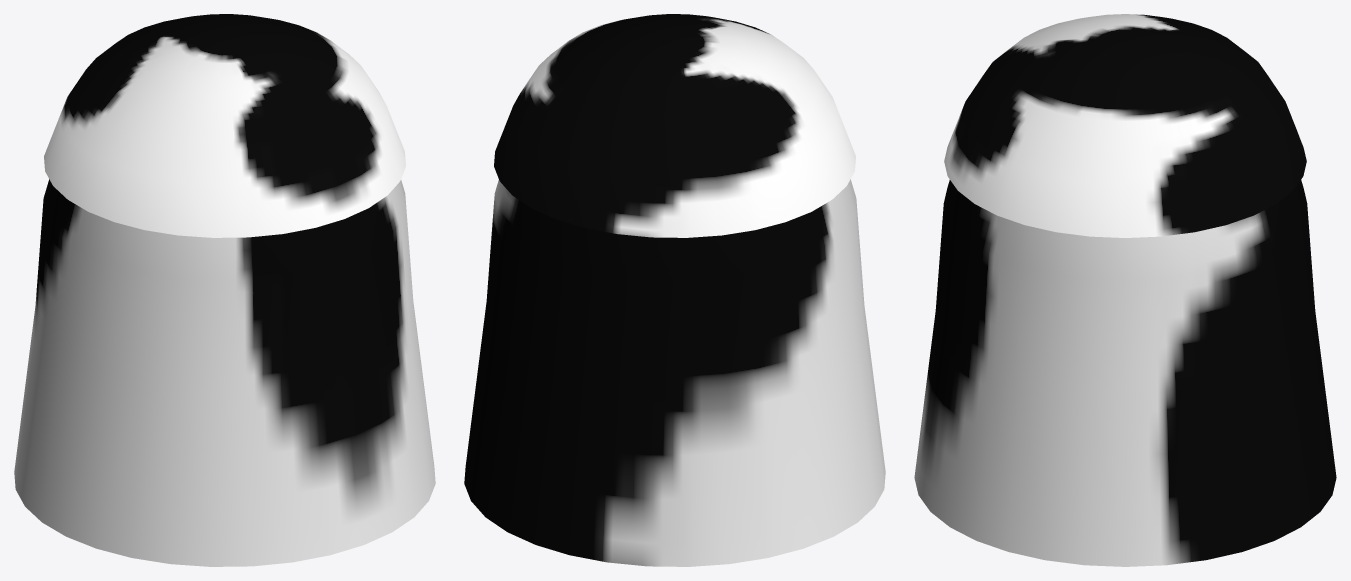
The model's file is Kuu.fbx.
The picture shows the model from 3 angles, left to right: view 1: azimuth 30°, elevation 25°; view 2: azimuth 150°, elevation 25°; view 3: azimuth 270°, elevation 25°; orthographic projection.
Visible parts, largest first — view 1: 0001_SM_e_Plc_P1012_Wind002, 0000_SM_e_Plc_P1012_Wind002; view 2: 0001_SM_e_Plc_P1012_Wind002, 0000_SM_e_Plc_P1012_Wind002; view 3: 0001_SM_e_Plc_P1012_Wind002, 0000_SM_e_Plc_P1012_Wind002.
Boxes of the visible parts, x1,y1,x2,y2 form: 0001_SM_e_Plc_P1012_Wind002: (14, 179, 435, 566); 0000_SM_e_Plc_P1012_Wind002: (44, 14, 405, 237); 0001_SM_e_Plc_P1012_Wind002: (464, 179, 885, 566); 0000_SM_e_Plc_P1012_Wind002: (494, 14, 855, 237); 0001_SM_e_Plc_P1012_Wind002: (914, 180, 1336, 566); 0000_SM_e_Plc_P1012_Wind002: (944, 14, 1306, 237).
Size of the model in its own units: 247 by 281 by 247.
